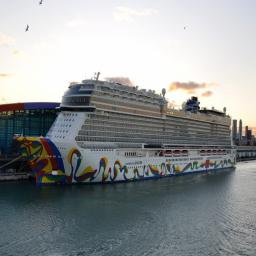cruises: (14, 70, 240, 192)
